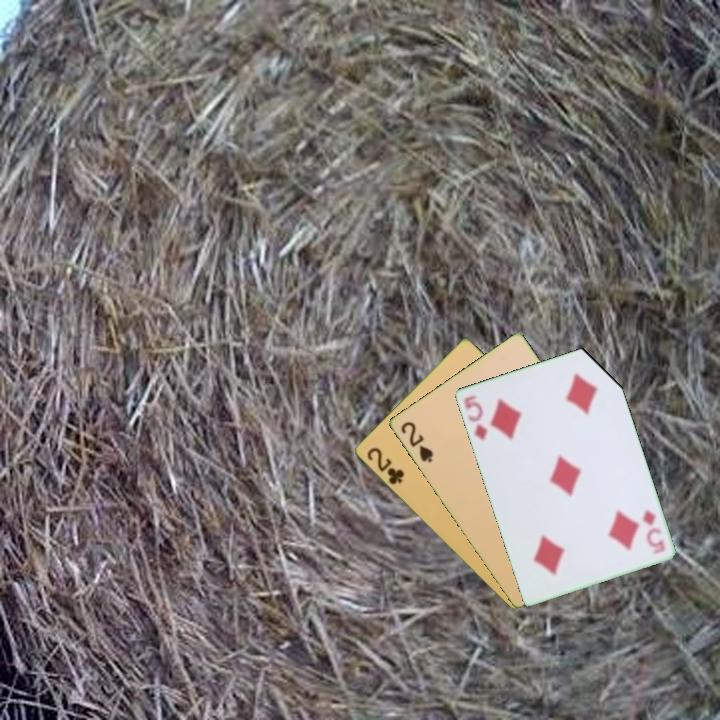2c: (363, 444, 407, 488)
2s: (397, 418, 436, 465)
5d: (460, 392, 490, 444), (639, 505, 667, 557)
